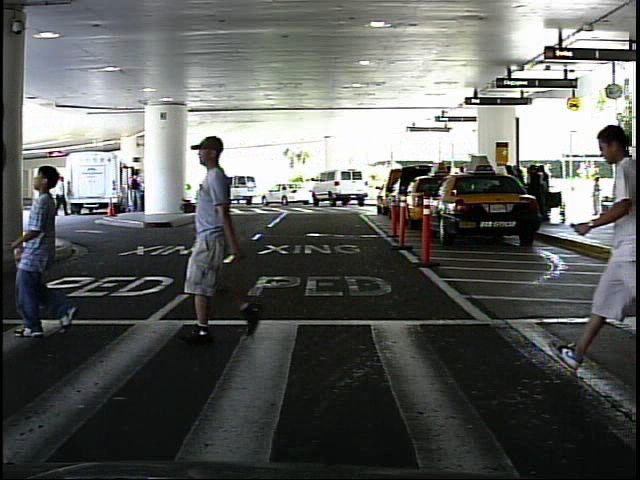person: (168, 130, 277, 343), (13, 156, 85, 345), (53, 172, 71, 222), (588, 172, 605, 216)
